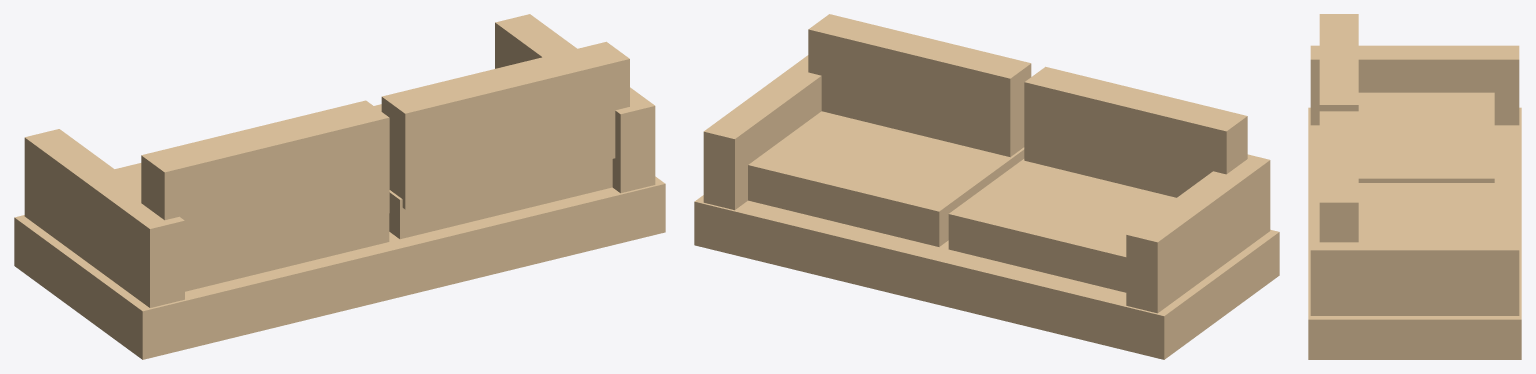
File: office_lounge_seating_reference_board_18.glb
3 views of the same model, side by side, from view 1: azimuth 30°, elevation 25°; view 2: azimuth 150°, elevation 25°; view 3: azimuth 270°, elevation 25° (orthographic). The views are drawn at different scales.
Parts seen in each view (by area): view 1: Cube; view 2: Cube; view 3: Cube.
Part boxes in pixels (bbox=[...]): Cube: bbox=[14, 14, 665, 359]; Cube: bbox=[694, 14, 1279, 359]; Cube: bbox=[1308, 14, 1521, 359].
Size of the model in its own units: 2.34 by 0.75 by 0.9935.
